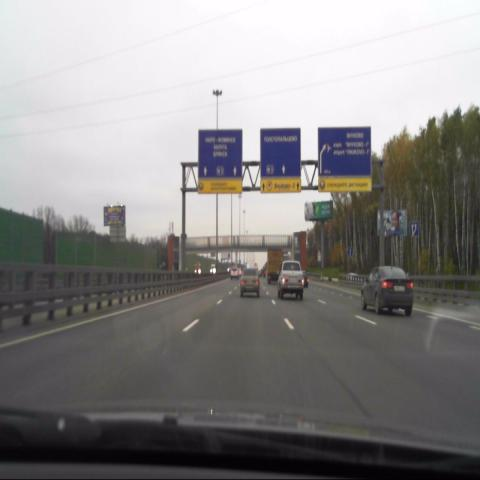5_15_3: (409, 221, 417, 237)
